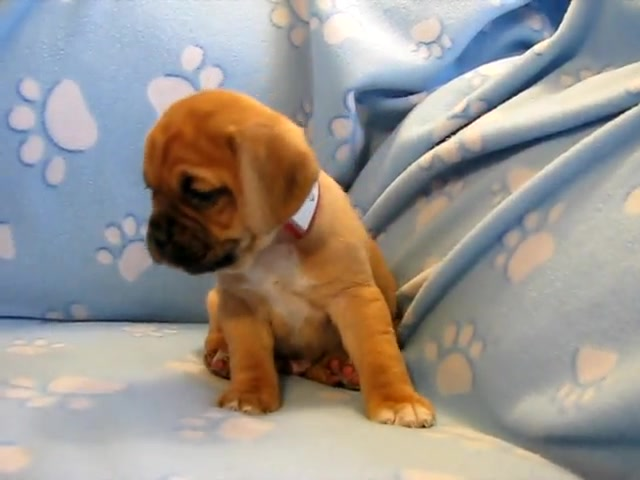dog: (142, 90, 439, 430)
